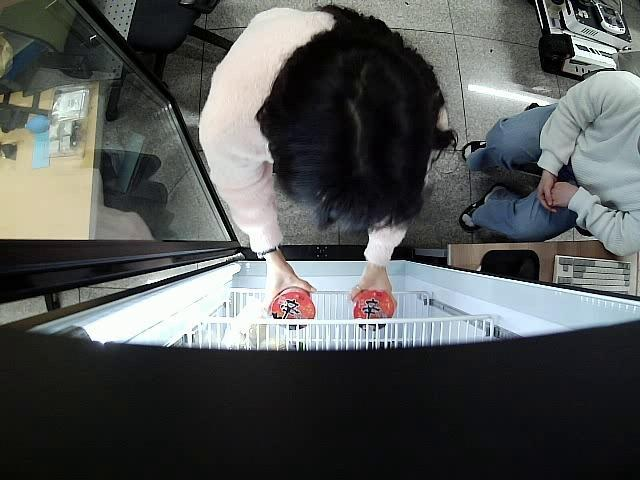02_shinRamen_S: (270, 287, 314, 330), (353, 288, 394, 331)
